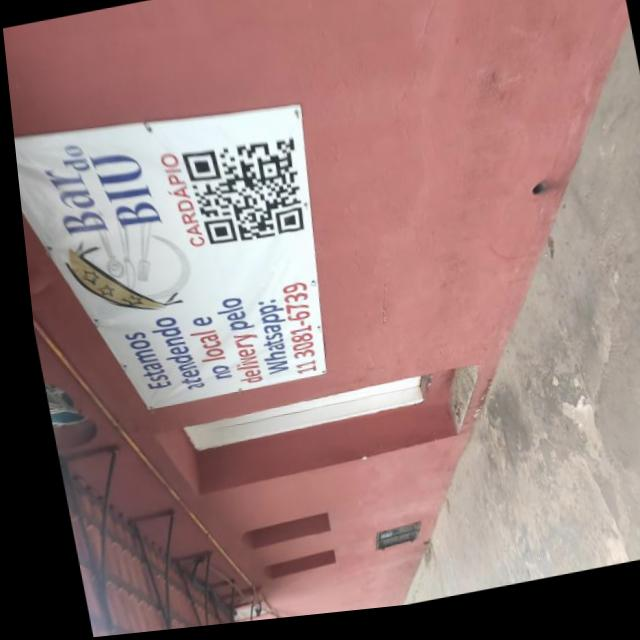qrcode: (178, 140, 308, 253)
